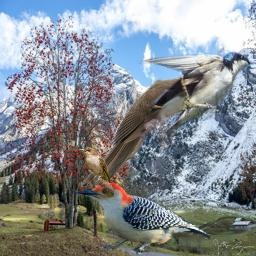Cuckoo: (81, 73, 232, 187), (78, 146, 114, 198)
Swallow: (137, 50, 254, 139)
Woodpecker: (75, 183, 210, 256)
